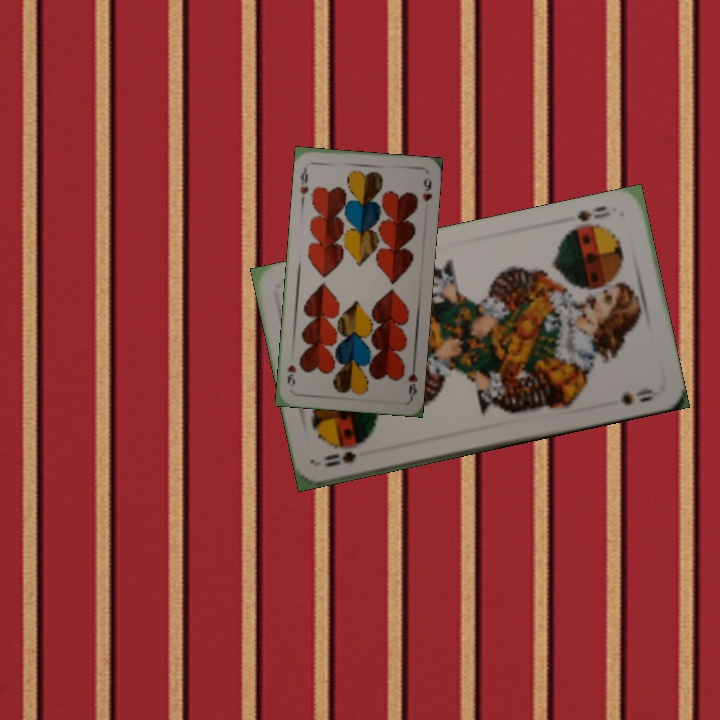H9: (404, 359, 420, 400), (296, 163, 311, 202)
SO: (318, 447, 359, 470), (573, 202, 614, 224)
